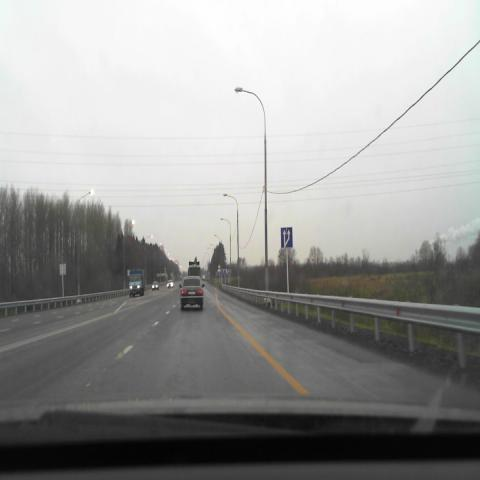5_15_3: (280, 227, 293, 247)
